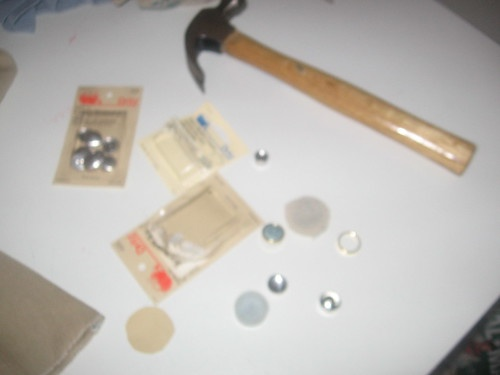hammer: (179, 1, 480, 180)
